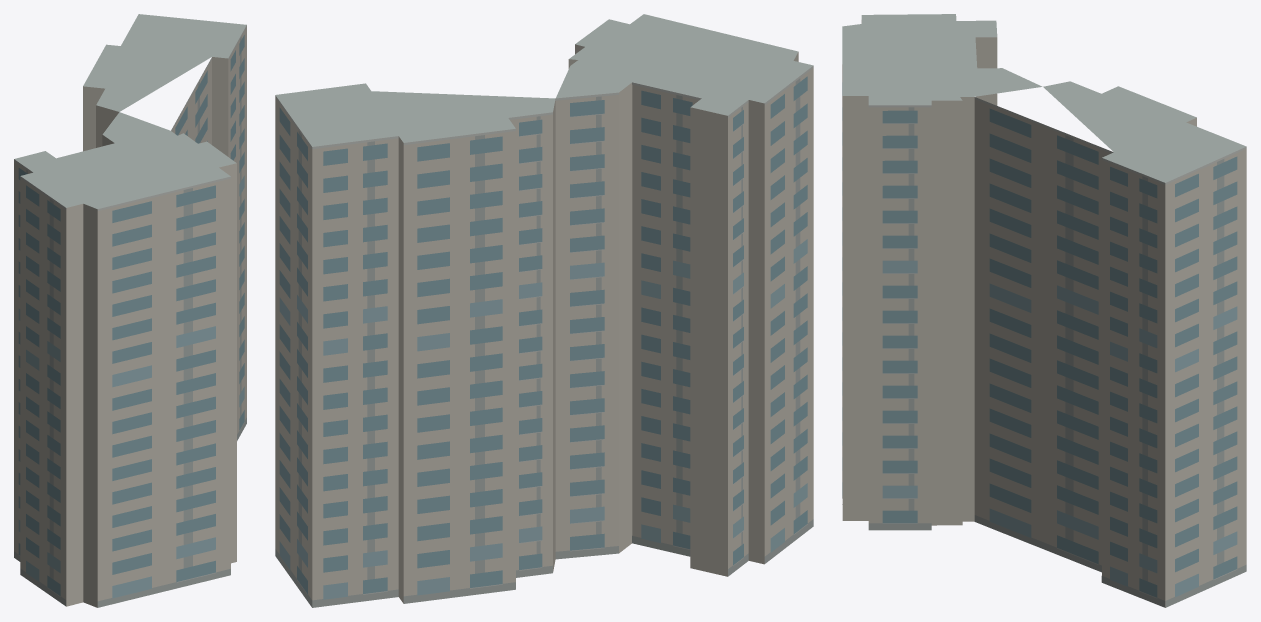
Rendered from residential-186159b7-f765-4847-80bd-72f4c5f4a7aa.glb.
3 views of the same model, side by side, from view 1: azimuth 30°, elevation 25°; view 2: azimuth 150°, elevation 25°; view 3: azimuth 270°, elevation 25° (orthographic). The views are drawn at different scales.
Visible parts, largest first — view 1: residential-186159b7-f765-4847-80bd-72f4c5f4a7aa.tmp; view 2: residential-186159b7-f765-4847-80bd-72f4c5f4a7aa.tmp; view 3: residential-186159b7-f765-4847-80bd-72f4c5f4a7aa.tmp.
Boxes of the visible parts, x1,y1,x2,y2 form: residential-186159b7-f765-4847-80bd-72f4c5f4a7aa.tmp: [14, 14, 246, 607]; residential-186159b7-f765-4847-80bd-72f4c5f4a7aa.tmp: [275, 14, 813, 607]; residential-186159b7-f765-4847-80bd-72f4c5f4a7aa.tmp: [842, 14, 1246, 607].
Bounding box in the file's own units: 41.8 × 49 × 42.28.
